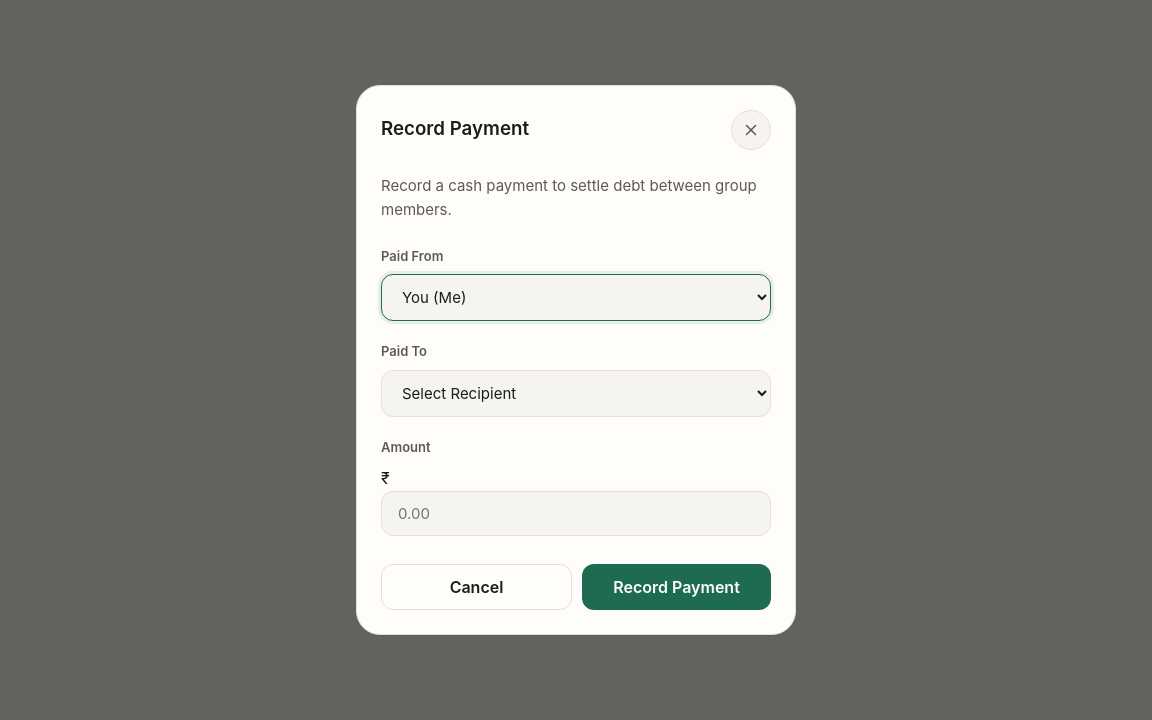
Test: SettleUpModal › records that another member paid you back
This screenshot has width=1152, height=720.
Later steps or results of the test are not shown.
Step 1. Select "riya" in the dropdown labelled "Paid From" → (576, 298), box [381,274,771,321]
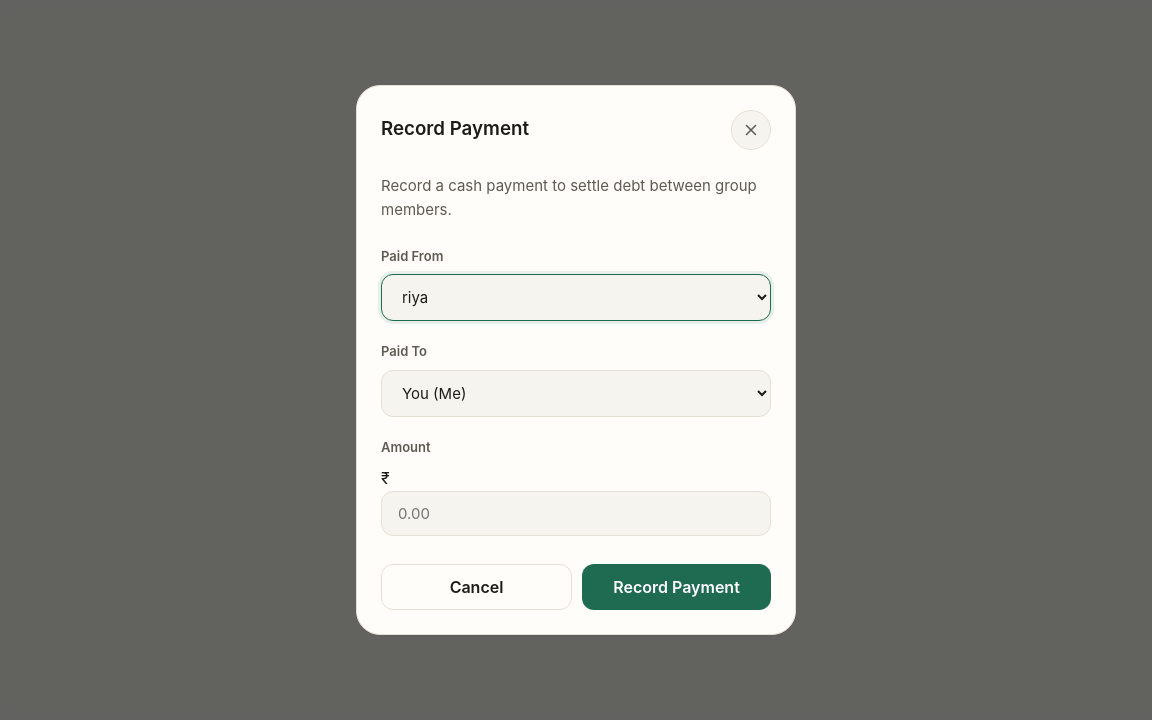
Result: the dropdown labelled "Paid To" shows "You (Me)" at [381,370,771,417]
